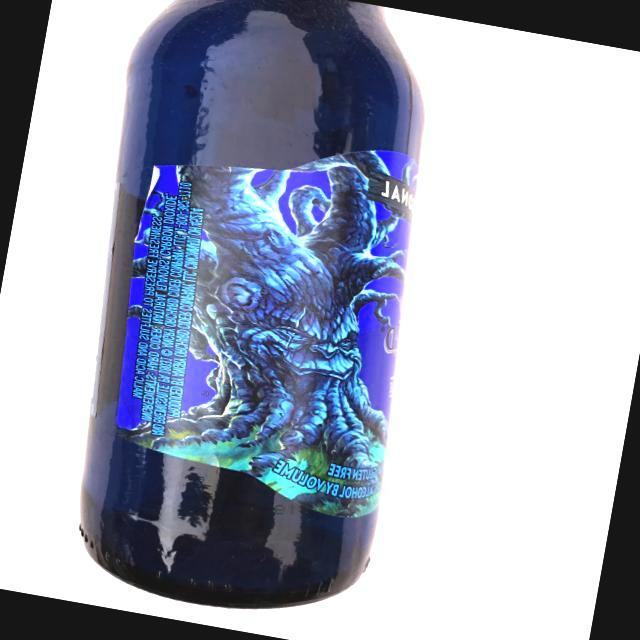glass: (33, 0, 473, 637)
